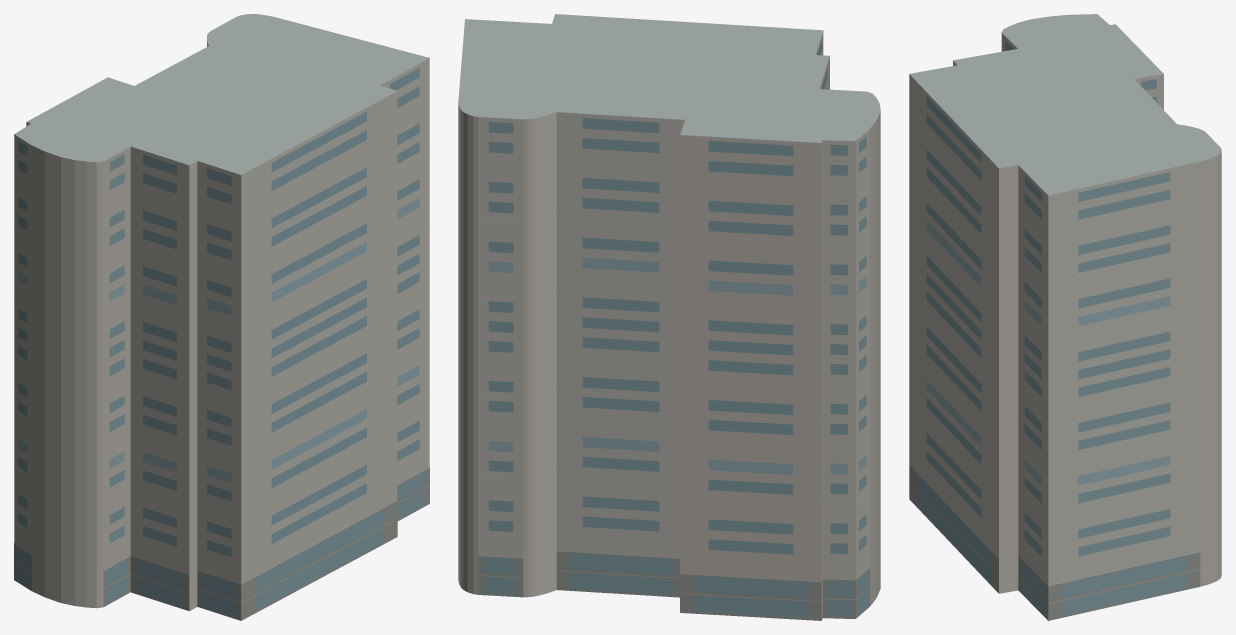
The model's file is survey-upis-32668333.glb.
3 renders of one model, left to right at view 1: azimuth 30°, elevation 25°; view 2: azimuth 150°, elevation 25°; view 3: azimuth 270°, elevation 25°, orthographic. The views are drawn at different scales.
Parts seen in each view (by area): view 1: survey-upis-32668333.tmp; view 2: survey-upis-32668333.tmp; view 3: survey-upis-32668333.tmp.
Part boxes in pixels (x1,y1,x2,y2): survey-upis-32668333.tmp: (14, 14, 429, 620); survey-upis-32668333.tmp: (458, 14, 880, 620); survey-upis-32668333.tmp: (909, 14, 1221, 620).
Bounding box in the file's own units: 67.03 × 73.2 × 48.74.
